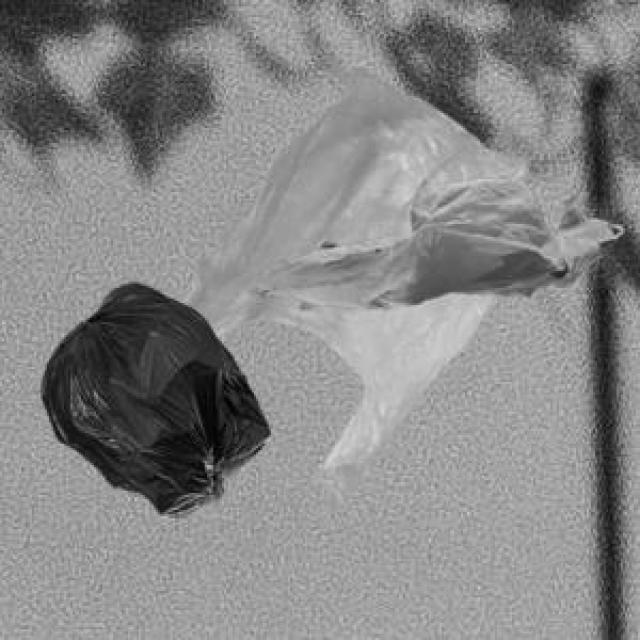miscellaneous trash: (36, 280, 267, 516)
